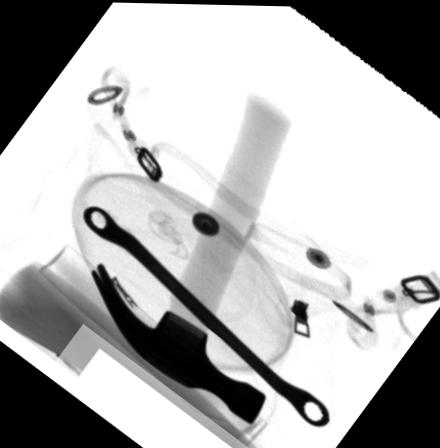Hammer: (86, 92, 291, 423)
Wrench: (80, 204, 332, 428)
